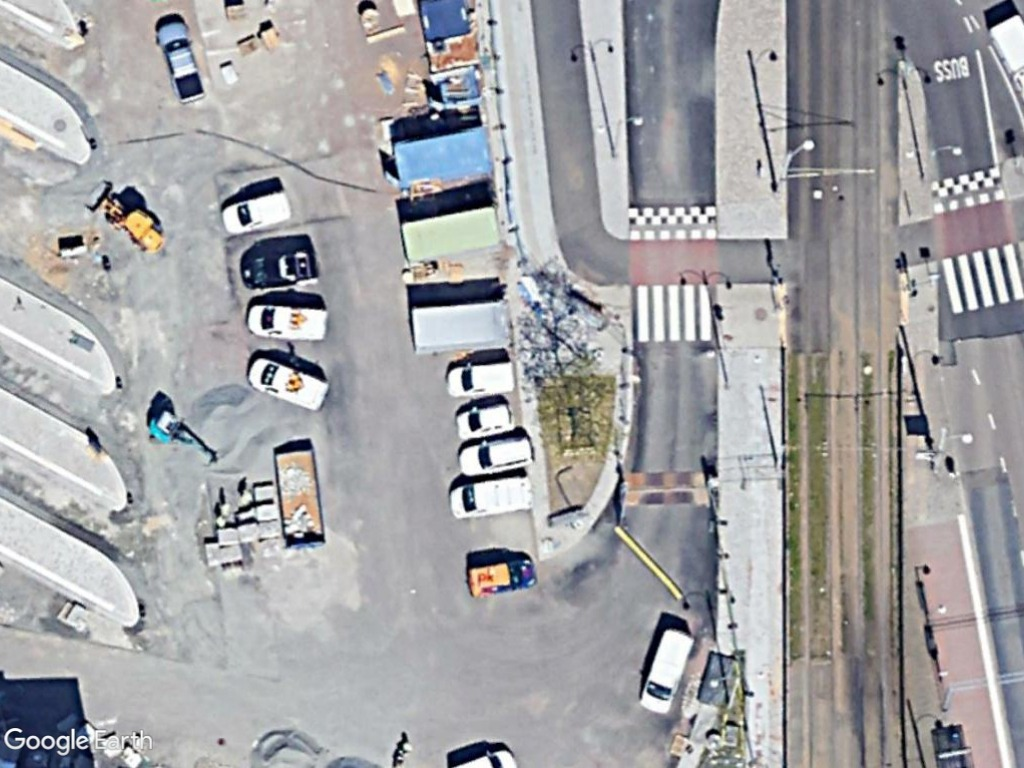car: (454, 433, 538, 483), (450, 397, 521, 442)
other: (152, 18, 212, 107)
van: (635, 621, 702, 718), (244, 354, 336, 417), (444, 466, 541, 519), (215, 186, 294, 242), (242, 299, 335, 345), (441, 355, 524, 405)
